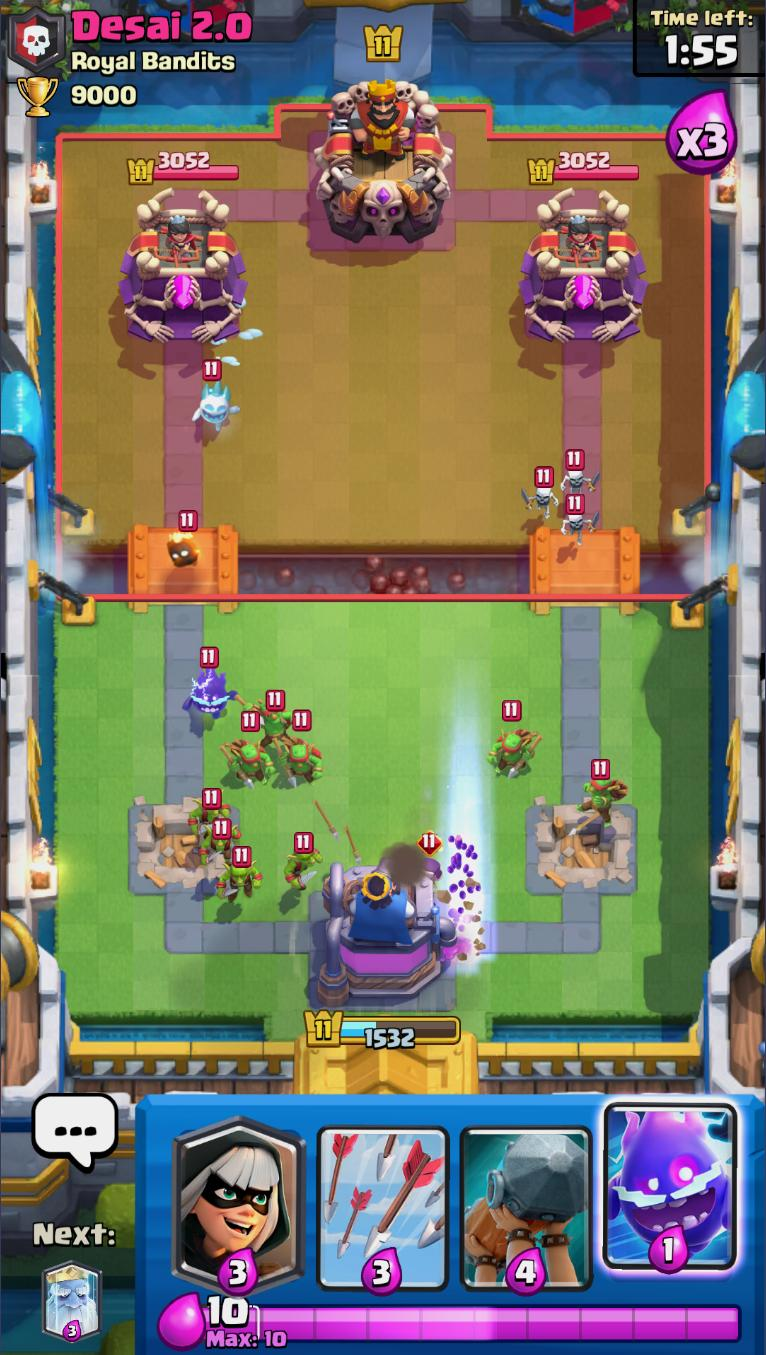ArrowDeck: (309, 1095, 458, 1296)
BanditDeck: (166, 1092, 313, 1295)
BattleRamDeck: (454, 1098, 600, 1294)
ElectroSpirit: (184, 647, 236, 717)
ElectroSpiritDeck: (595, 1095, 743, 1293)
Elixir: (202, 1296, 742, 1349)
EnemyTower: (122, 187, 250, 347), (520, 186, 648, 346)
EvoSkeleton: (414, 830, 445, 891)
FireSpirit: (165, 507, 202, 571)
Goblin: (281, 834, 326, 895), (218, 849, 263, 903), (187, 787, 230, 836), (198, 819, 241, 865)
IceSpirit: (191, 358, 240, 430)
KingTower: (315, 81, 455, 246)
MyKingHP: (301, 1007, 463, 1052)
MyKingTower: (302, 860, 461, 1009)
MyPrincessTowerBrocken: (522, 800, 643, 899), (124, 799, 242, 894)
PrincessTower: (158, 212, 207, 267), (552, 213, 605, 263)
RoyaleGhostNext: (41, 1260, 103, 1344)
Skeleton: (553, 447, 600, 498), (518, 466, 559, 523), (563, 496, 596, 547)
SpearGoblin: (491, 701, 544, 781), (577, 760, 630, 837), (281, 712, 324, 792), (222, 712, 267, 785), (246, 689, 293, 756)
TowerPrincessHP: (524, 151, 641, 187), (128, 153, 242, 187)
